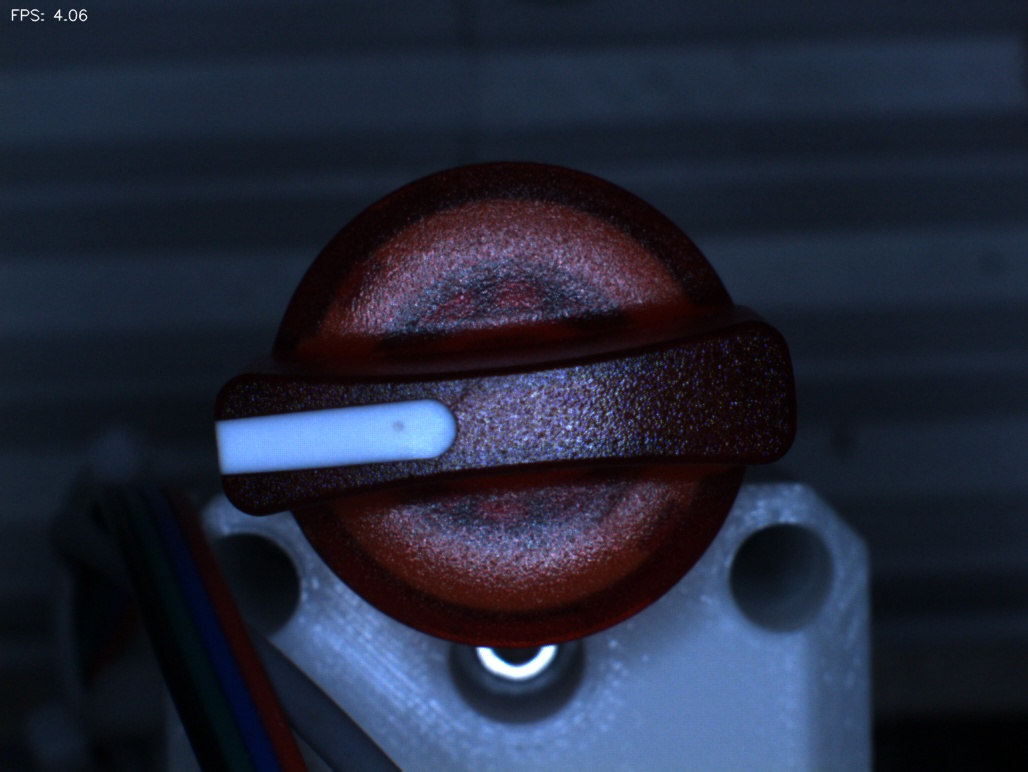PointNoir: (360, 398, 438, 461)
